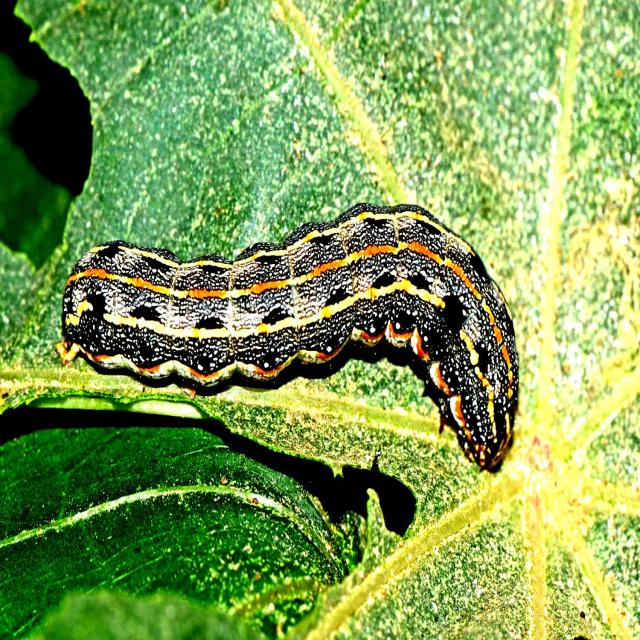armyworm: (55, 200, 520, 473)
